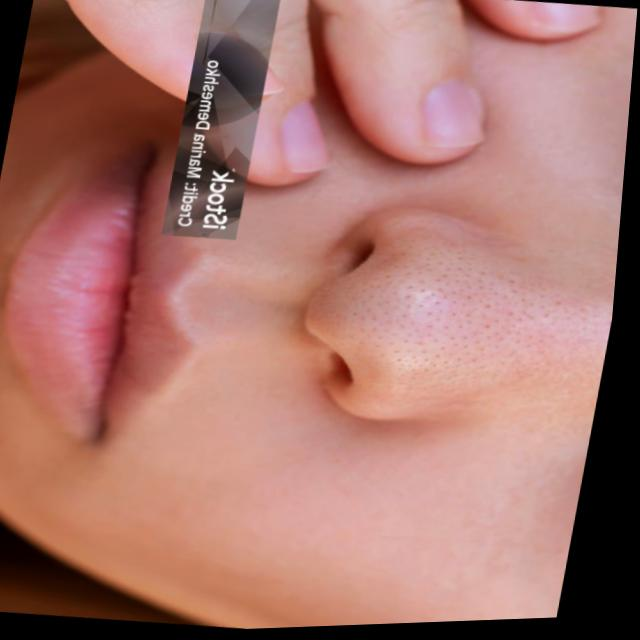blackhead: (340, 211, 576, 414)
